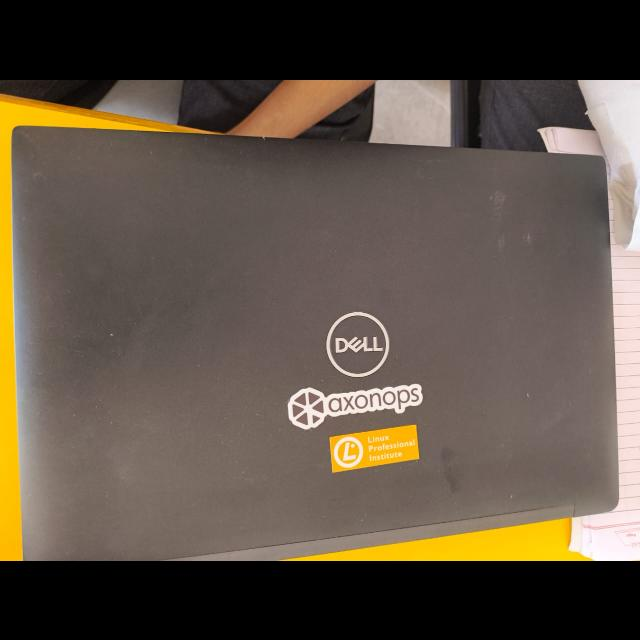laptop: (9, 111, 624, 543)
